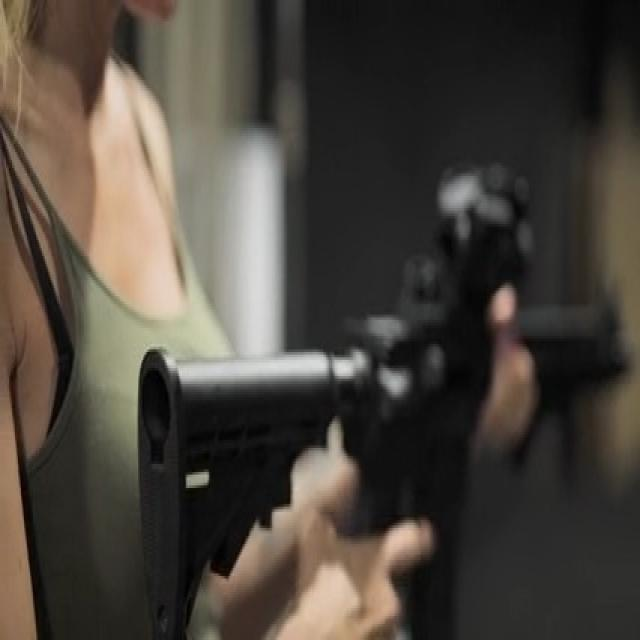Gun_Holder: (139, 129, 639, 640)
